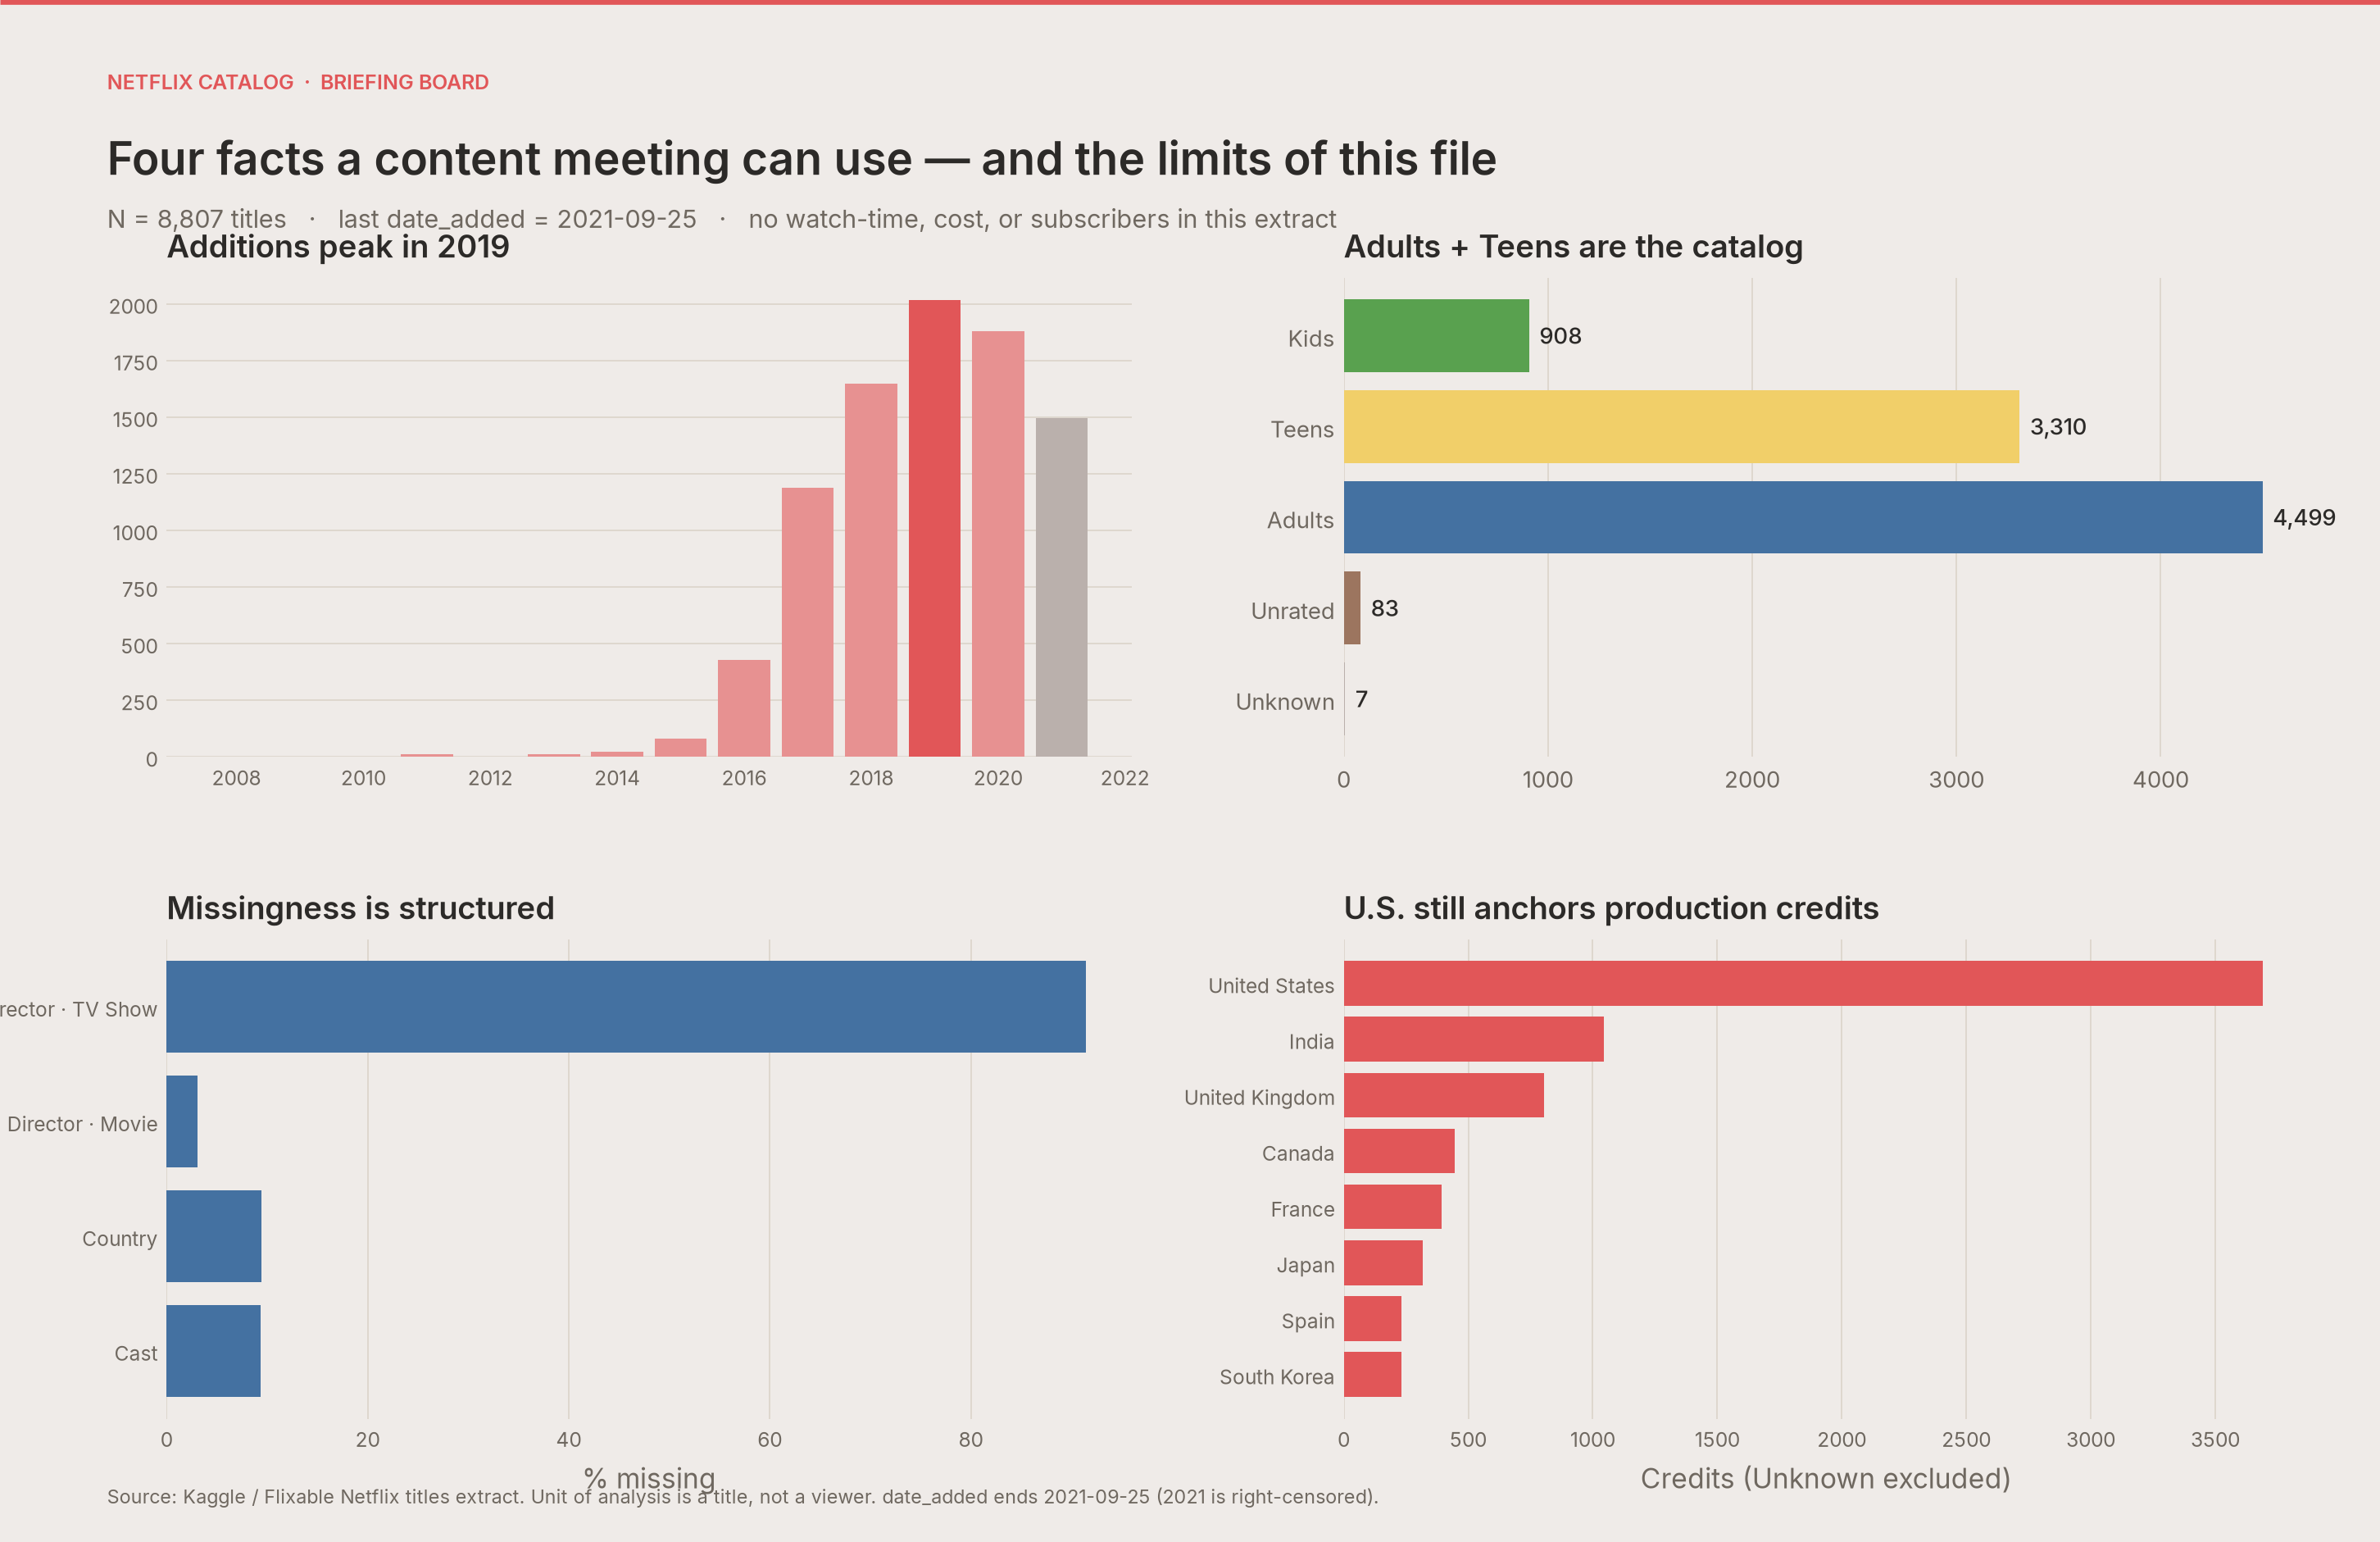

Layout of this report page (visuals, bound fields, positions):
{"tool":"tableau","page":{"name":"Netflix Movies And TV Shows","canvas":[1000,1000],"units":"permille","ordinal":0},"visuals":[{"type":"worksheet","title":"Number of ontent followed by rating","mark":"Bar","rows":["show_id"],"cols":["rating"],"box":[4.2,9.4,316.2,323.2]},{"type":"worksheet","title":"Trend in publishing genres over years","mark":"Automatic","rows":["show_id"],"cols":["date_added"],"box":[320.4,9.4,307.7,323.2]},{"type":"worksheet","title":"Distribution of content followed by countries","mark":"Multipolygon","box":[628.2,9.4,282.8,470]},{"type":"legend","title":"Distribution of content followed by countries","param":"[federated.1158fgp1sp288v1axjkhb1919zxb].[cnt:show_id (netflix_titles_country_sp","box":[911,9.4,84.8,38.8]},{"type":"filter","title":"Content by years","param":"[federated.1158fgp1sp288v1axjkhb1919zxb].[none:release_year:qk]","box":[911,48.2,84.8,83.4]},{"type":"filter","title":"Trend in publishing genres over years","param":"[federated.1158fgp1sp288v1axjkhb1919zxb].[yr:date_added:qk]","box":[911,131.6,84.8,81.1]},{"type":"filter","title":"Trend in publishing genres over years","param":"[federated.1158fgp1sp288v1axjkhb1919zxb].[none:listed_in (netflix_titles_genres_","box":[911,212.7,84.8,37.6]},{"type":"legend","title":"Trend in publishing genres over years","param":"[federated.1158fgp1sp288v1axjkhb1919zxb].[none:listed_in (netflix_titles_genres_","box":[911,250.3,84.8,112.8]},{"type":"worksheet","title":"Number of rating's content years","mark":"Automatic","rows":["rating"],"cols":["release_year"],"box":[4.2,332.6,316.2,283.2]},{"type":"worksheet","title":"Content by years","mark":"Area","rows":["show_id"],"cols":["release_year"],"box":[320.4,332.6,307.7,283.2]},{"type":"legend","title":"Number of rating's content years","param":"[federated.1158fgp1sp288v1axjkhb1919zxb].[none:rating:nk]","box":[911,363.1,84.8,162.2]},{"type":"worksheet","title":"Age-rating category correlations","mark":"Automatic","rows":["rating"],"cols":["listed_in (netflix_titles_genres_split.csv)"],"box":[628.2,479.4,282.8,511.2]},{"type":"filter","title":"Distribution cast with different listed in","param":"[federated.1158fgp1sp288v1axjkhb1919zxb].[none:listed_in (netflix_titles_genres_","box":[911,525.3,84.8,52.9]},{"type":"filter","title":"Number of rating's content years","param":"[federated.1158fgp1sp288v1axjkhb1919zxb].[none:release_year:qk]","box":[911,578.1,84.8,76.4]},{"type":"worksheet","title":"Distribution cast with different listed in","mark":"Automatic","rows":["listed_in (netflix_titles_genres_split.csv)"],"cols":["cast"],"box":[4.2,615.8,316.2,374.9]},{"type":"worksheet","title":"Top 10 producing countries","mark":"Automatic","rows":["country (netflix_titles_country_split.csv)"],"cols":["show_id"],"box":[320.4,615.8,307.7,374.9]},{"type":"filter","title":"Number of rating's content years","param":"[federated.1158fgp1sp288v1axjkhb1919zxb].[none:rating:nk]","box":[911,654.5,84.8,67]},{"type":"filter","title":"Top 10 producing countries","param":"[federated.1158fgp1sp288v1axjkhb1919zxb].[none:country (netflix_titles_country_s","box":[911,721.5,84.8,75.2]},{"type":"legend","title":"Top 10 producing countries","param":"[federated.1158fgp1sp288v1axjkhb1919zxb].[none:type:nk]","box":[911,796.7,84.8,69.3]},{"type":"filter","title":"Age-rating category correlations","param":"[federated.1158fgp1sp288v1axjkhb1919zxb].[none:listed_in (netflix_titles_genres_","box":[911,866,84.8,62.3]},{"type":"filter","title":"Age-rating category correlations","param":"[federated.1158fgp1sp288v1axjkhb1919zxb].[none:rating:nk]","box":[911,928.3,84.8,62.3]}]}

Visuals, with their boxes on the dashboard's canvas, which has no fixed pixel size, in thousandths of its width and height (x1, y1, x2, y2). These are canvas units, not pixel positions in the 2380x1542 screenshot, which may show the page scaled, cropped or inside an application window:
"Number of ontent followed by rating" worksheet (Bar marks): 4 9 320 333
"Trend in publishing genres over years" worksheet: 320 9 628 333
"Distribution of content followed by countries" worksheet (Multipolygon marks): 628 9 911 479
"Distribution of content followed by countries" legend: 911 9 996 48
"Content by years" filter: 911 48 996 132
"Trend in publishing genres over years" filter: 911 132 996 213
"Trend in publishing genres over years" filter: 911 213 996 250
"Trend in publishing genres over years" legend: 911 250 996 363
"Number of rating's content years" worksheet: 4 333 320 616
"Content by years" worksheet (Area marks): 320 333 628 616
"Number of rating's content years" legend: 911 363 996 525
"Age-rating category correlations" worksheet: 628 479 911 991
"Distribution cast with different listed in" filter: 911 525 996 578
"Number of rating's content years" filter: 911 578 996 654
"Distribution cast with different listed in" worksheet: 4 616 320 991
"Top 10 producing countries" worksheet: 320 616 628 991
"Number of rating's content years" filter: 911 654 996 722
"Top 10 producing countries" filter: 911 722 996 797
"Top 10 producing countries" legend: 911 797 996 866
"Age-rating category correlations" filter: 911 866 996 928
"Age-rating category correlations" filter: 911 928 996 991
